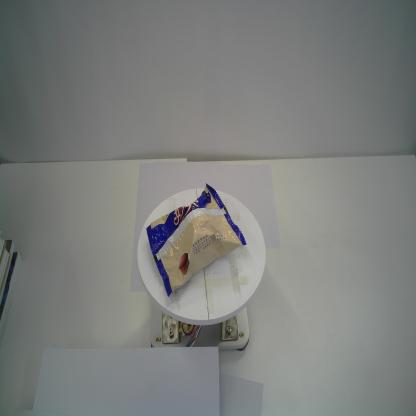Dessert: (145, 182, 247, 299)
